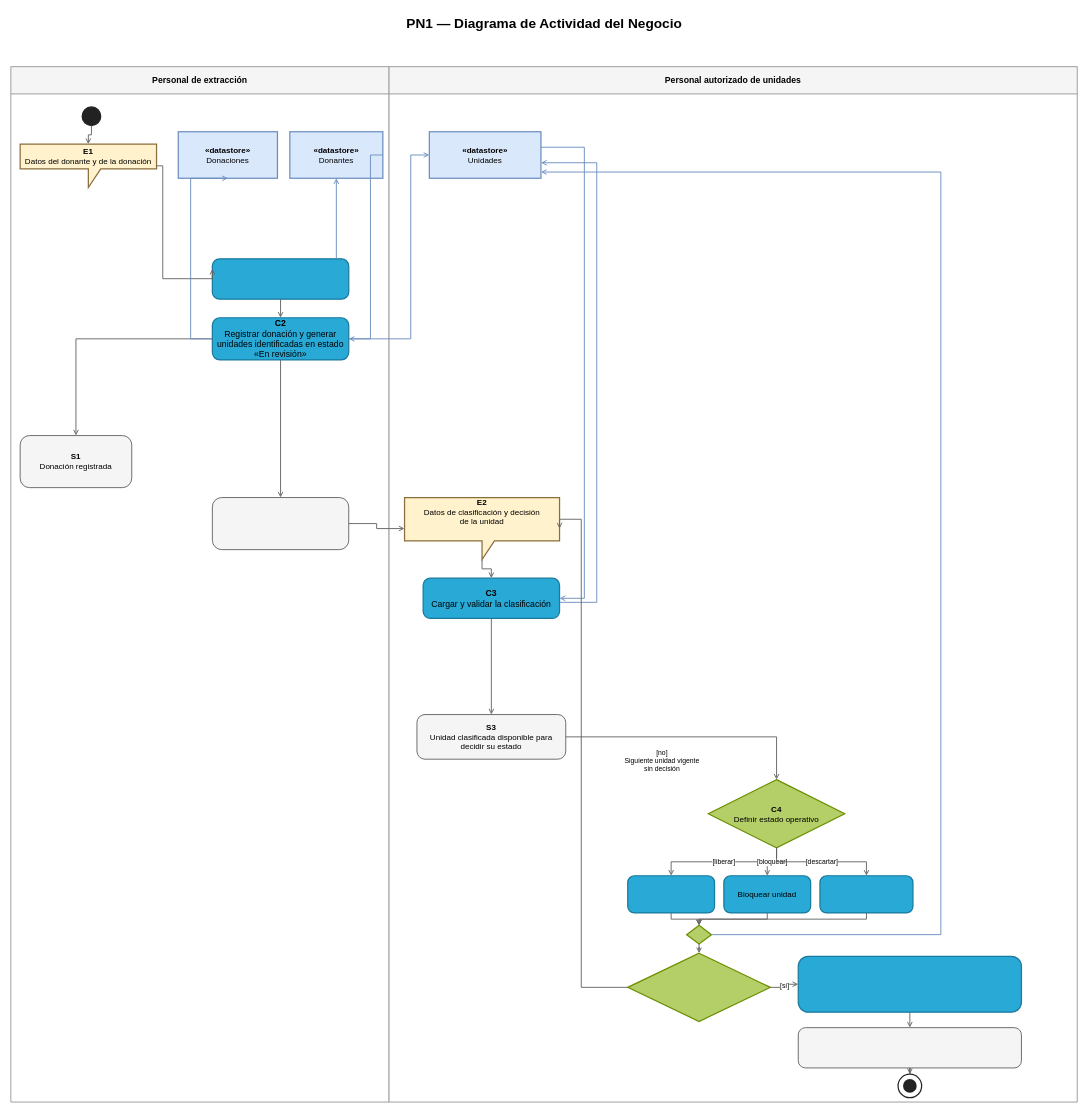
Some shapes in this 1089 by 1113 pixel diagram are drawn without their labels. The centre of each missing label's shape, as x and y in pixels:
C1 Registrar donante: (x=280, y=278)
C5 Emitir automáticamente el comprobante de la donación: (x=909, y=983)
Descartar unidad: (x=866, y=894)
Liberar unidad: (x=671, y=894)
S2 Unidades identificadas en estado «En revisión» para clasificación: (x=280, y=523)
S4 Comprobante generado o pendiente de reintento: (x=910, y=1047)
¿Todas las unidades vigentes de la donación tienen decisión PN1?: (x=699, y=987)
